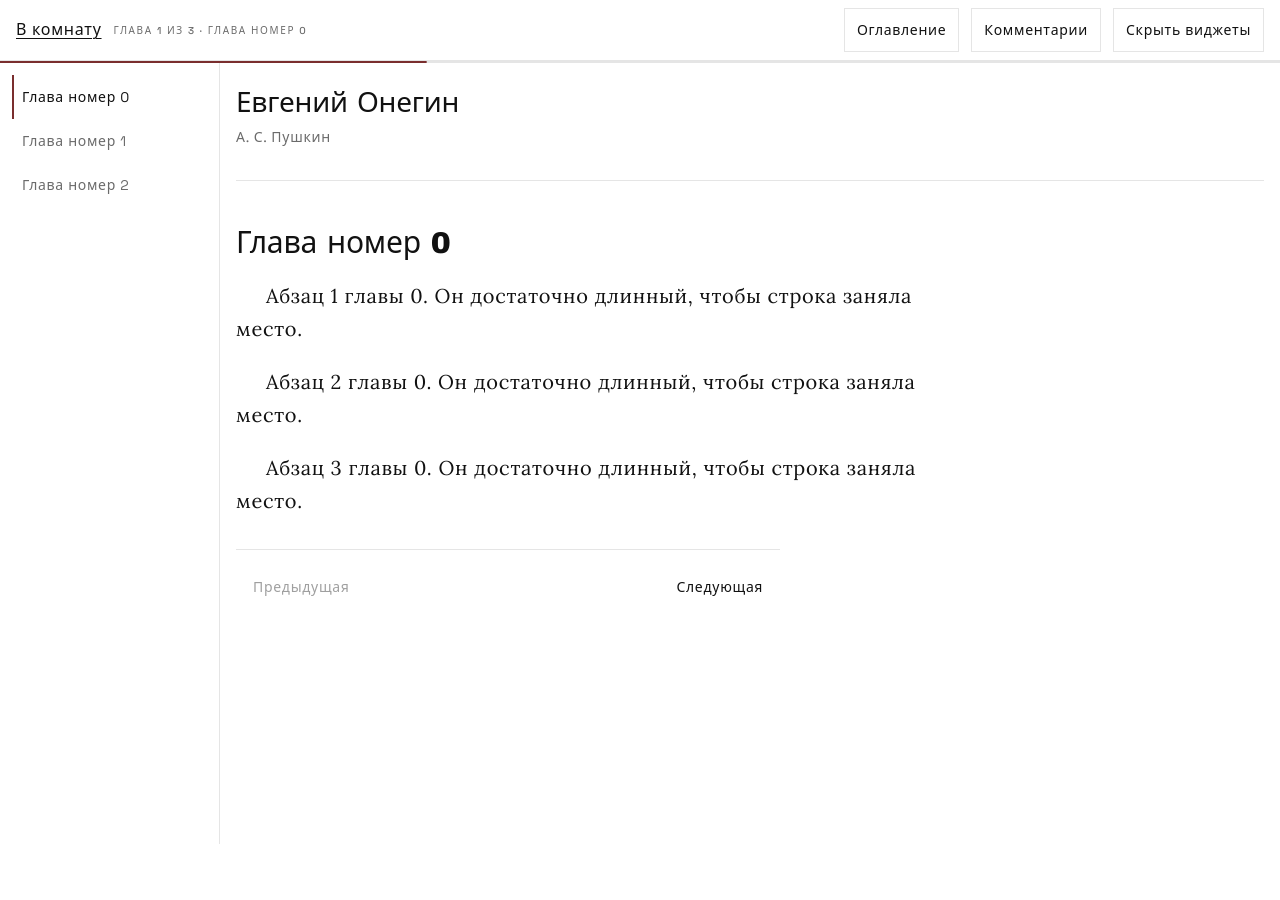
навигация › первая и последняя главы: кнопки гаснут
Check: the element with class "chapter" is shown, box [236,226,916,517]
Check: the heading "Глава номер 0" is shown, box [236,227,451,259]
Click the button "Следующая" at [720, 588], box [660,566,780,610]
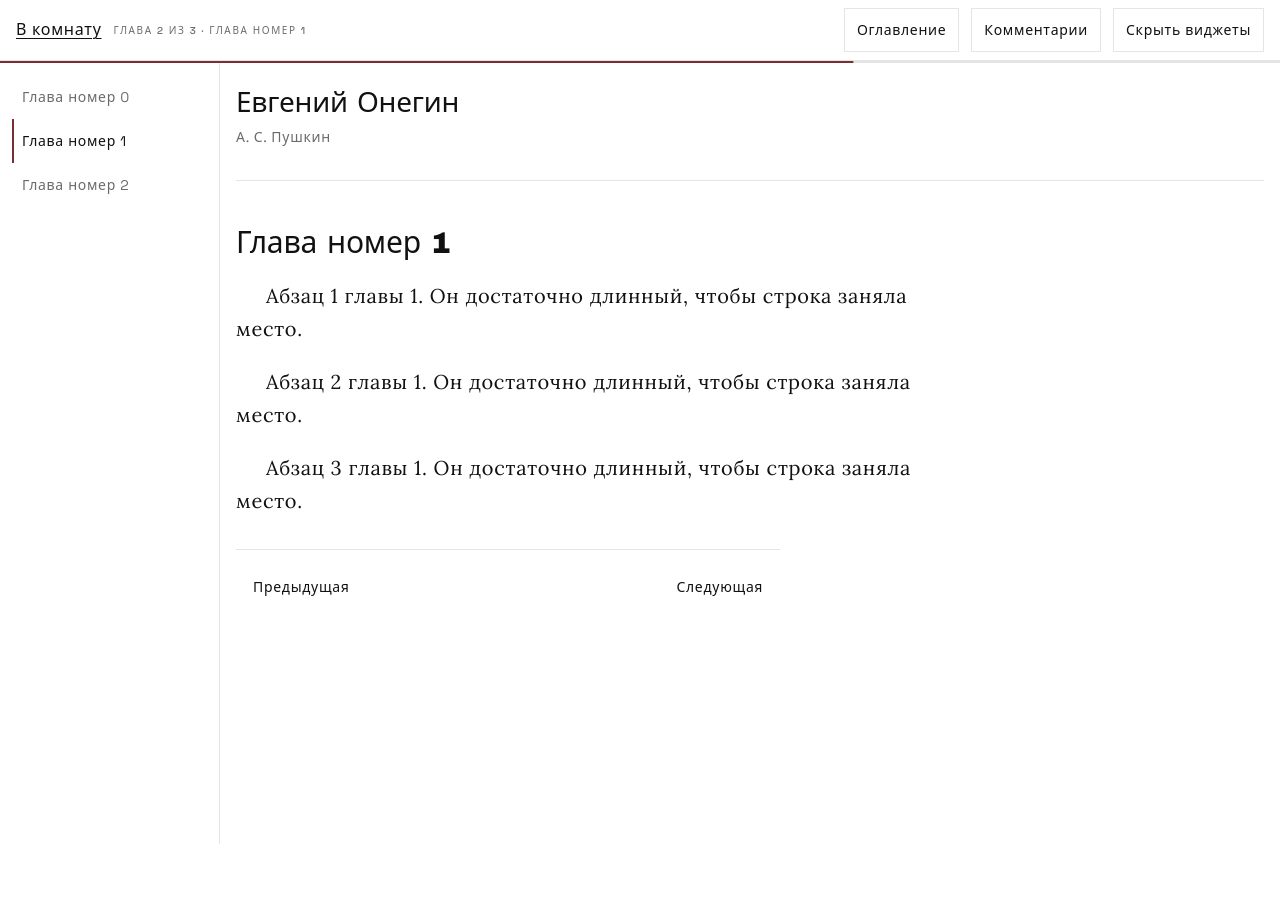
Check: the element with class "chapter" is shown, box [236,226,916,517]
Check: the heading "Глава номер 1" is shown, box [236,227,451,259]
Click the button "Следующая" at [720, 588], box [660,566,780,610]
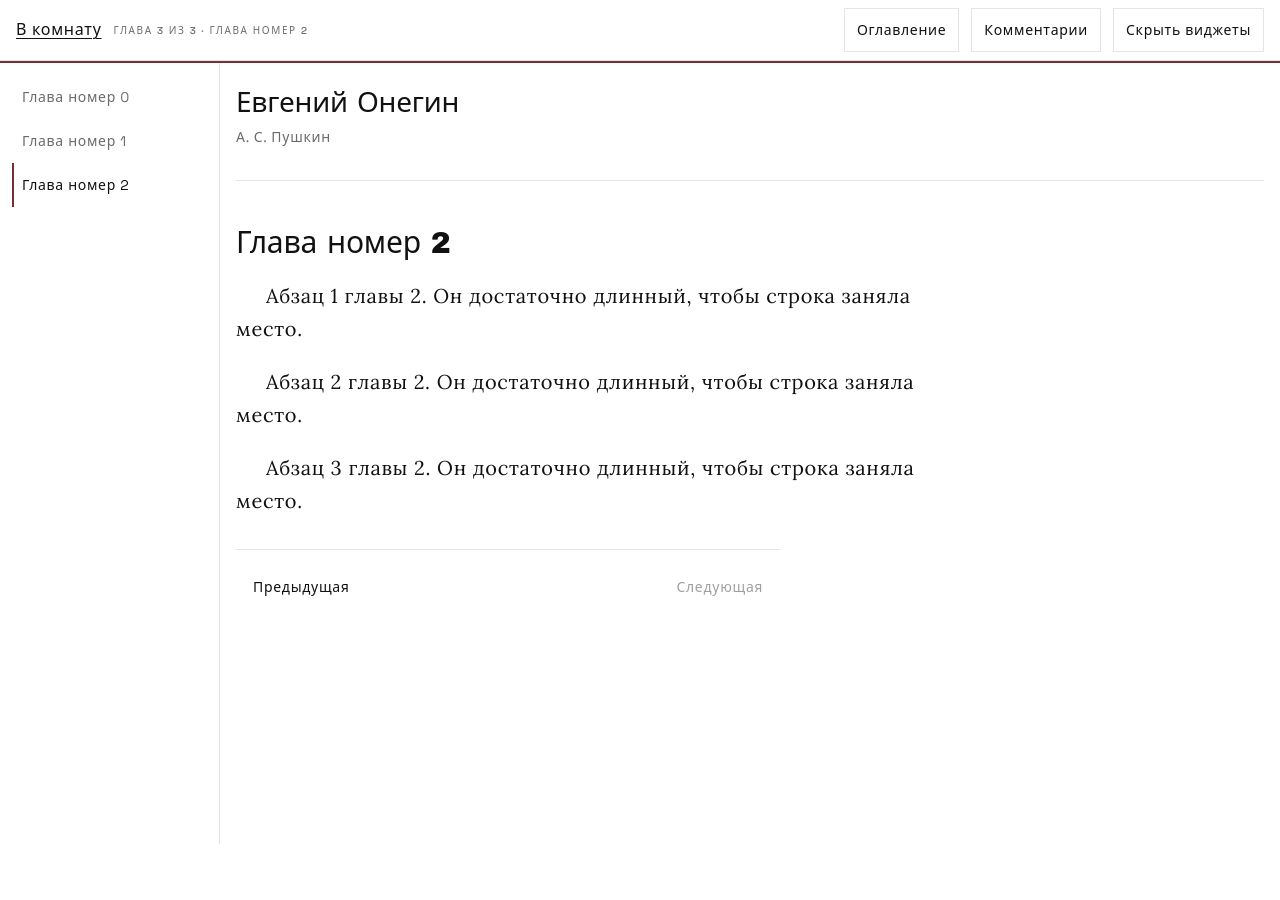
Check: the button "Предыдущая" is enabled, box [236,566,366,610]
Check: the heading "Глава номер 2" is shown, box [236,227,451,259]
Check: the button "Следующая" is disabled, box [660,566,780,610]
